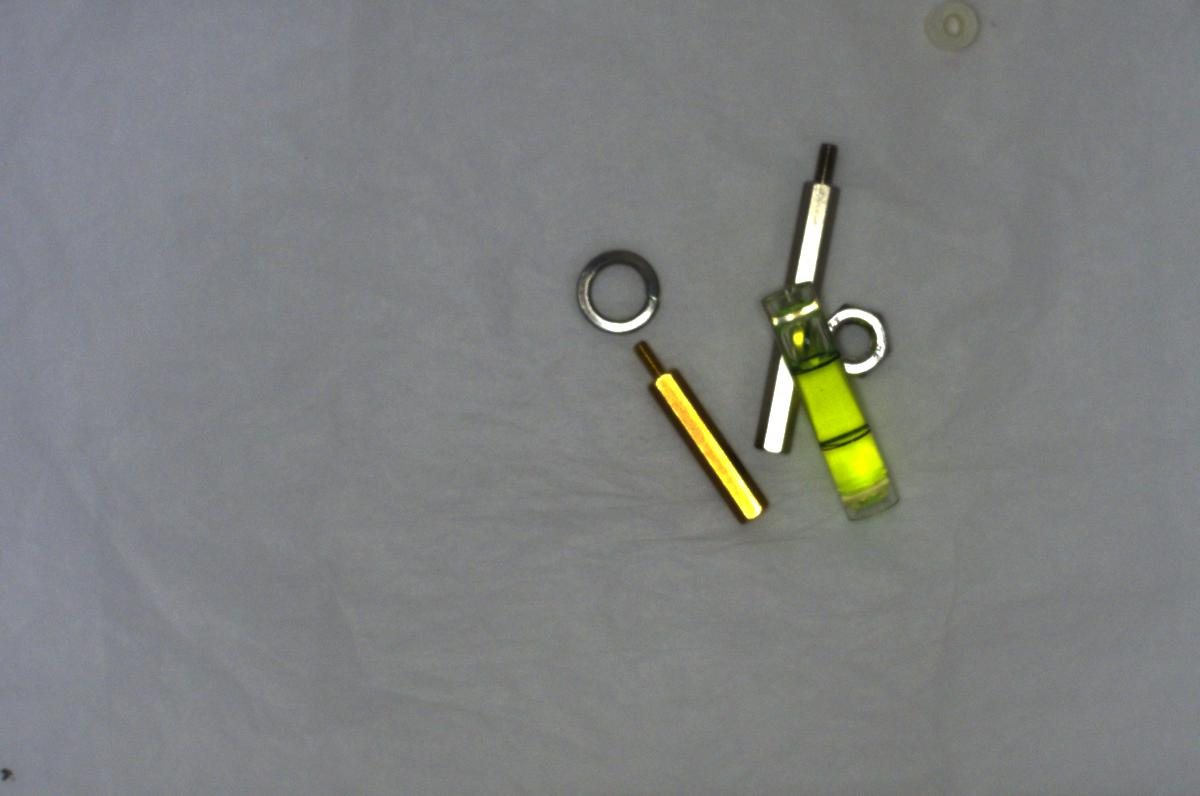Hexagon nut: (828, 295, 896, 385)
Hexagon pillar: (623, 332, 773, 533)
Hexagonal steel column: (750, 136, 837, 469)
Horizontal bubble: (751, 278, 908, 536)
Plastic cushion pillar: (923, 4, 984, 53)
Spring washer: (564, 242, 671, 336)
